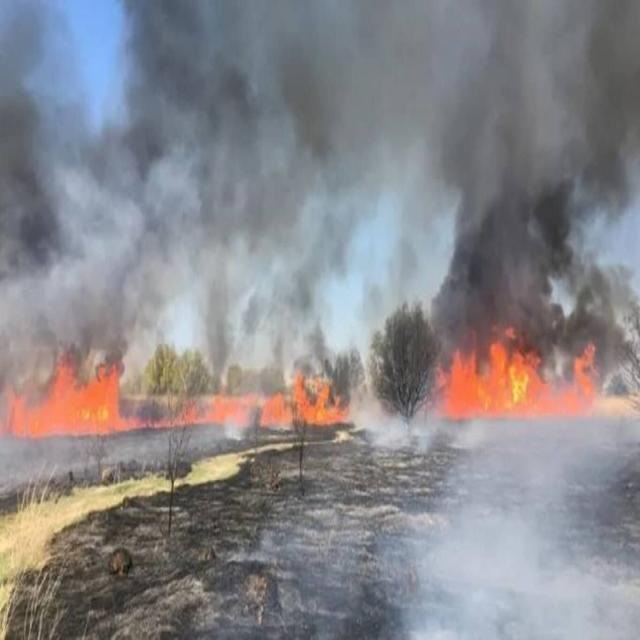Fire: (429, 337, 548, 429), (21, 353, 130, 433), (262, 366, 346, 433)
Smoke: (11, 0, 640, 384), (398, 389, 640, 640)
